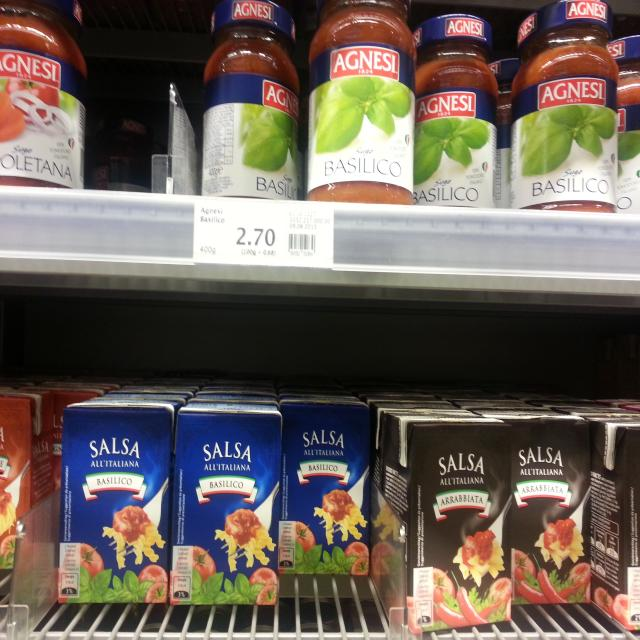Sauce: (369, 408, 512, 626), (60, 398, 177, 605), (172, 400, 283, 610), (307, 0, 415, 204), (478, 412, 590, 608), (514, 3, 619, 211), (200, 0, 306, 199), (0, 0, 92, 187), (413, 12, 498, 208), (281, 392, 370, 572), (0, 392, 48, 572)
